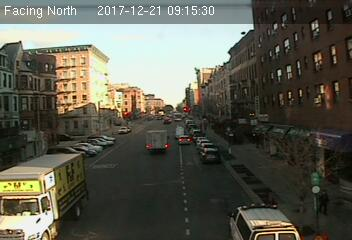car: (178, 135, 190, 145)
police: (228, 200, 300, 240)
truck: (144, 130, 168, 152), (201, 147, 220, 163)
